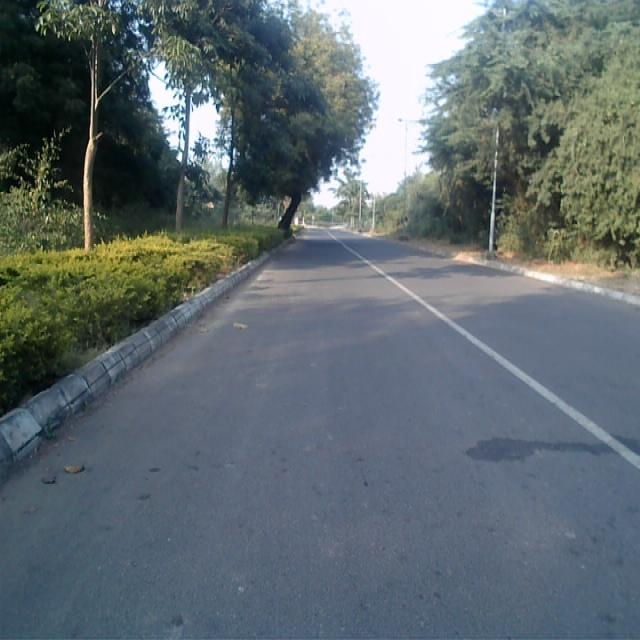lane: (1, 234, 640, 640)
